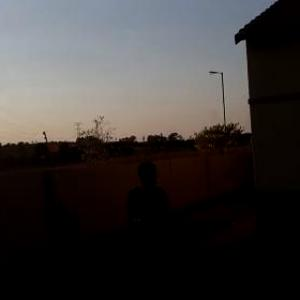follow: (120, 159, 174, 299)
